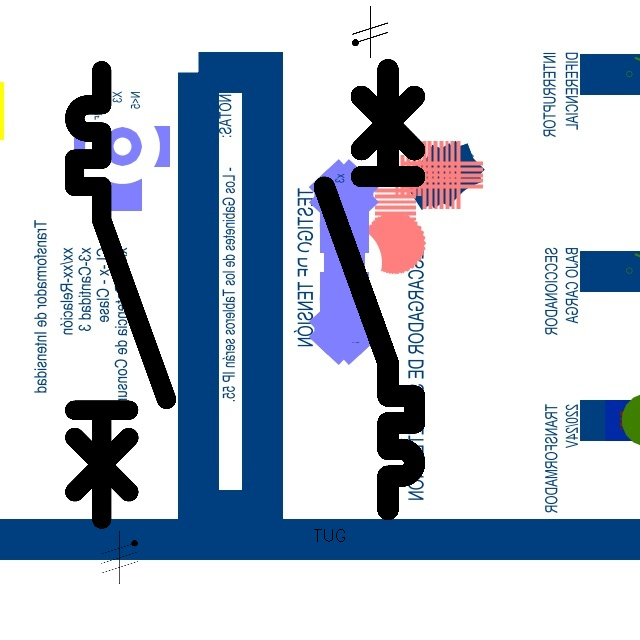interruptor_termomagnetico: (63, 59, 178, 530), (313, 58, 426, 521)
